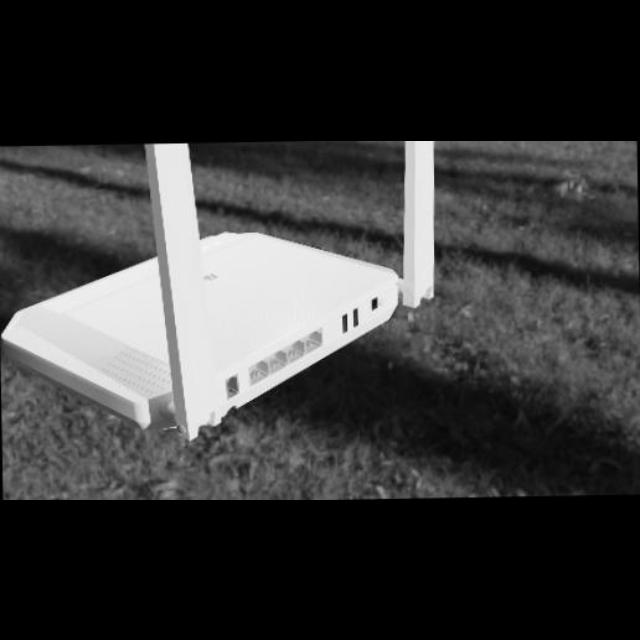Router: (2, 140, 440, 448)
